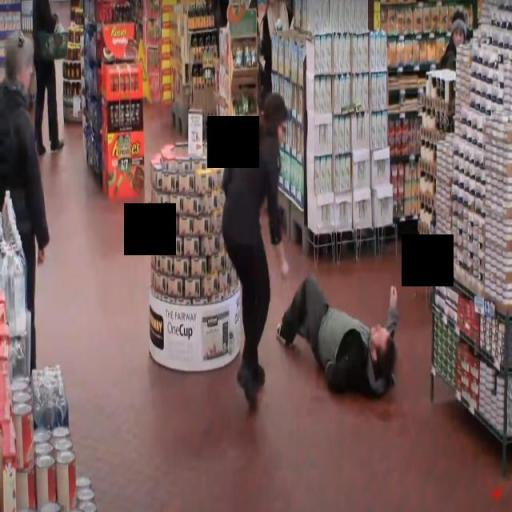Fall: (276, 268, 402, 403)
